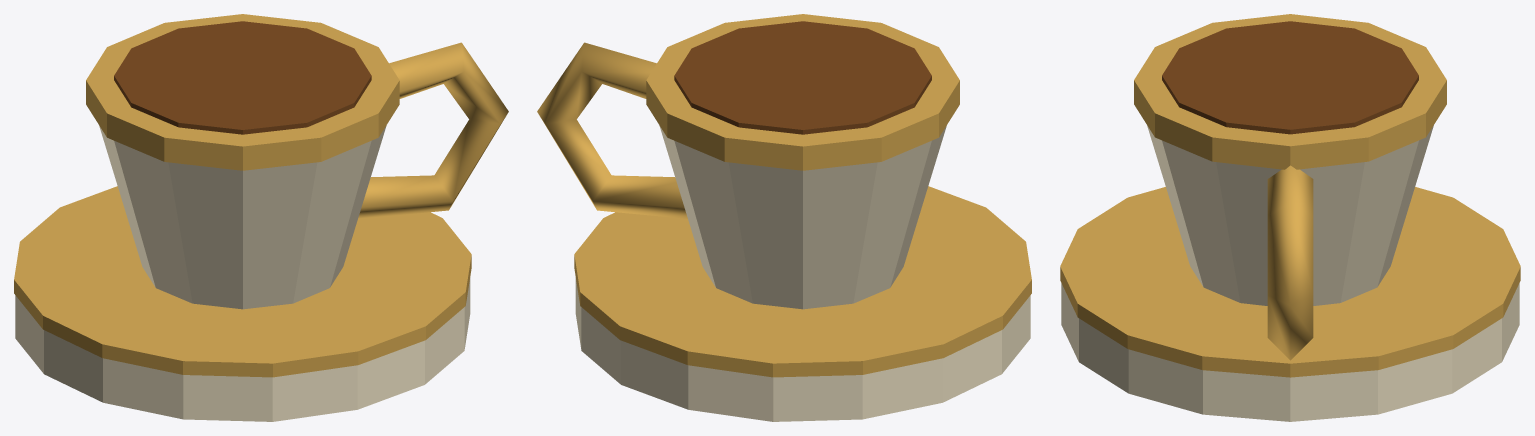
File: teacup.glb
The picture shows the model from 3 angles, left to right: view 1: azimuth 30°, elevation 25°; view 2: azimuth 150°, elevation 25°; view 3: azimuth 270°, elevation 25°; orthographic projection.
Visible parts, largest first — view 1: Saucer gilt edge, Ivory teacup, Visible tea, Ivory saucer, Cup gilt rim, Teacup handle; view 2: Saucer gilt edge, Ivory teacup, Visible tea, Ivory saucer, Cup gilt rim, Teacup handle; view 3: Saucer gilt edge, Ivory teacup, Visible tea, Ivory saucer, Cup gilt rim, Teacup handle.
Boxes of the visible parts, left/top/right/bottom form: Saucer gilt edge: left=14, top=186, right=471, bottom=377; Ivory teacup: left=99, top=125, right=386, bottom=309; Visible tea: left=114, top=21, right=371, bottom=134; Ivory saucer: left=15, top=278, right=470, bottom=421; Cup gilt rim: left=86, top=14, right=399, bottom=170; Teacup handle: left=358, top=42, right=508, bottom=218; Saucer gilt edge: left=574, top=186, right=1031, bottom=377; Ivory teacup: left=659, top=125, right=946, bottom=309; Visible tea: left=674, top=21, right=931, bottom=134; Ivory saucer: left=575, top=278, right=1030, bottom=421; Cup gilt rim: left=646, top=14, right=959, bottom=170; Teacup handle: left=537, top=42, right=687, bottom=218; Saucer gilt edge: left=1060, top=187, right=1520, bottom=377; Ivory teacup: left=1147, top=125, right=1433, bottom=305; Visible tea: left=1162, top=21, right=1418, bottom=134; Ivory saucer: left=1061, top=283, right=1519, bottom=421; Cup gilt rim: left=1134, top=14, right=1446, bottom=169; Teacup handle: left=1267, top=165, right=1313, bottom=360.
Size of the model in its own units: 0.422 by 0.2165 by 0.362.
